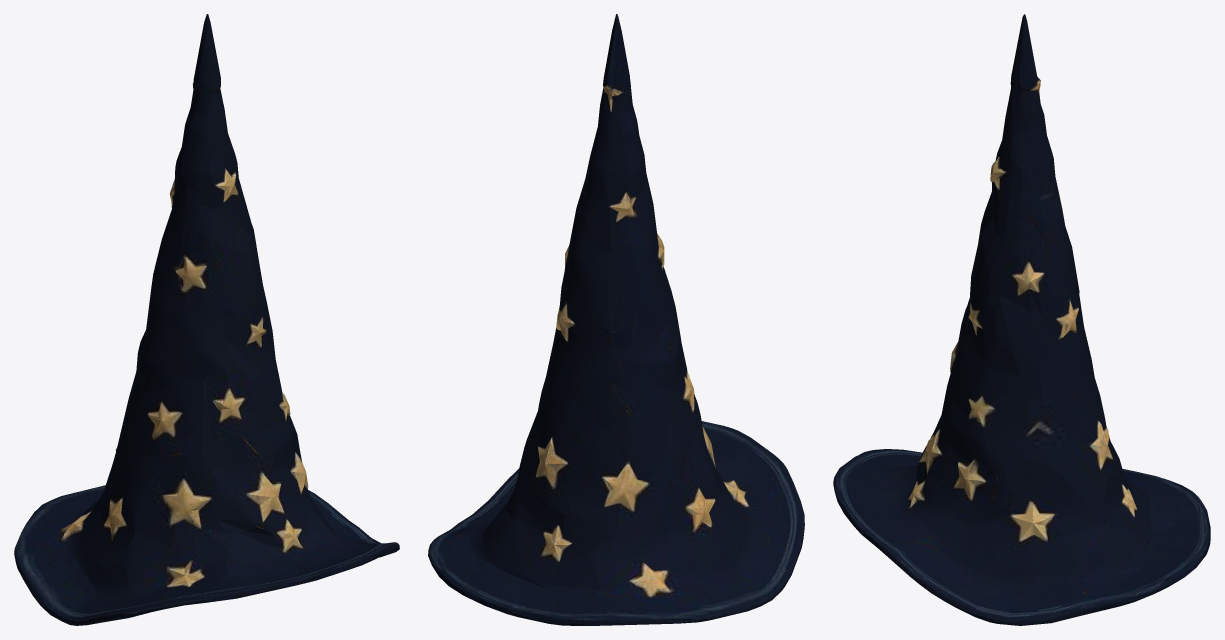
File: wizard.glb
3 renders of one model, left to right at view 1: azimuth 30°, elevation 25°; view 2: azimuth 150°, elevation 25°; view 3: azimuth 270°, elevation 25°, orthographic. The views are drawn at different scales.
Size of the model in its own units: 1.12 by 1.9 by 1.21.
1 material, 1 textured.
